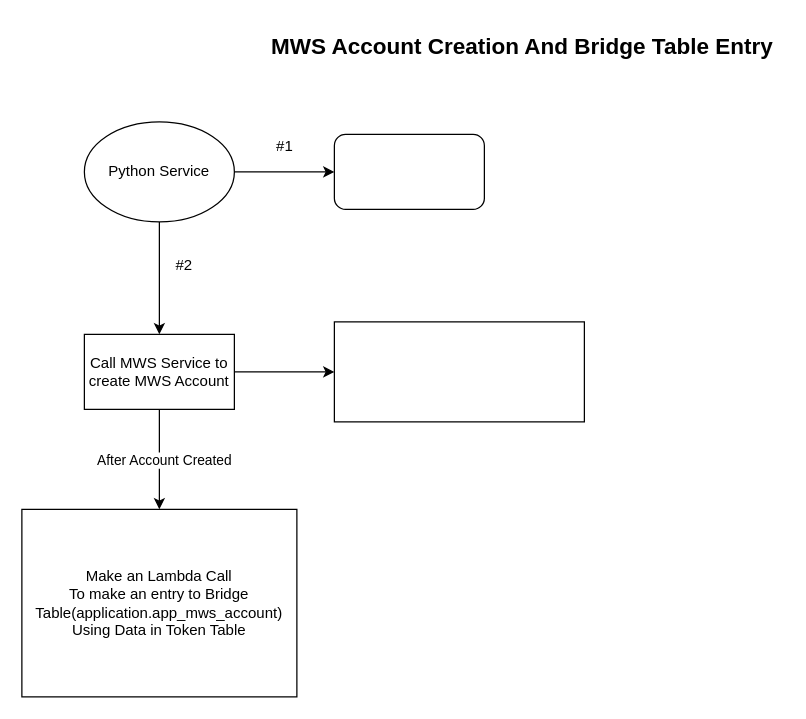
Some shapes in this 806 by 719 pixel diagram are drawn without their labels. The centre of each missing label's shape, as x and y in pixels:
"Makes an entry into MWS Token Table" belongs at pixel 408 171.
"Makes an entry to - MWS Account - MWS Setup Table" belongs at pixel 458 371.
